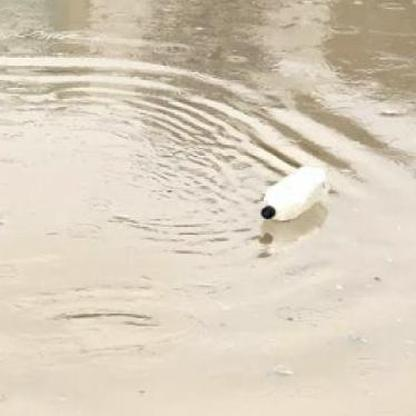plastic bottle: (261, 166, 329, 221)
